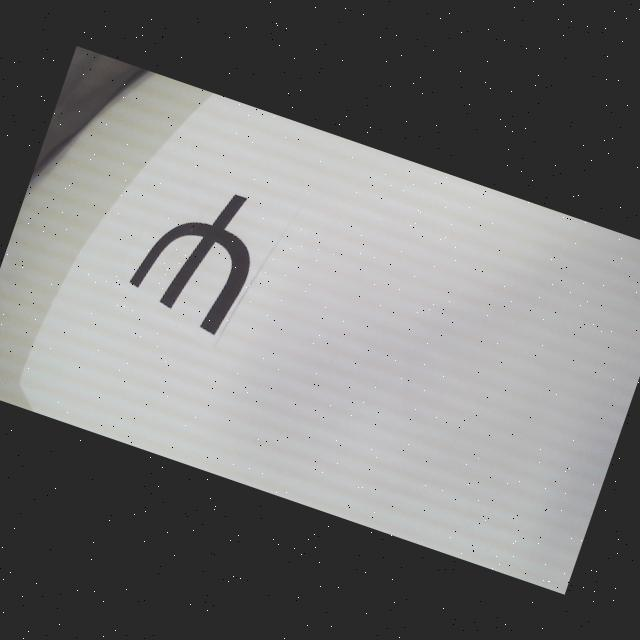PSI: (121, 170, 272, 340)
